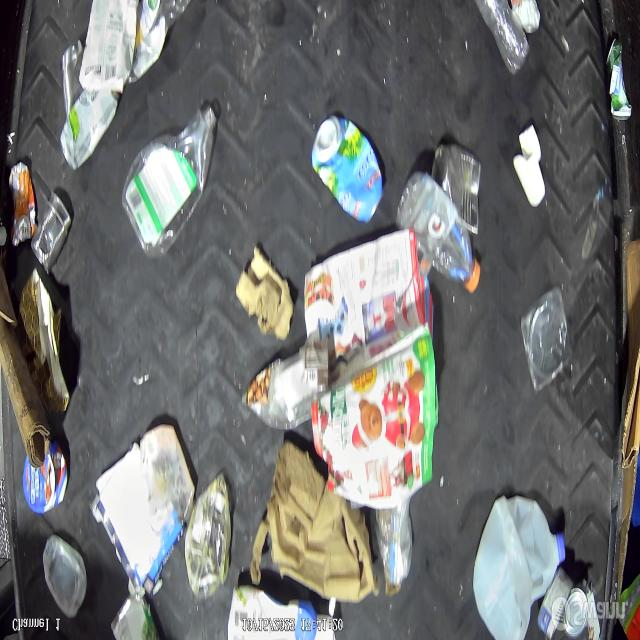can: (312, 112, 388, 222), (535, 559, 597, 640), (434, 136, 484, 234), (31, 188, 74, 276), (8, 151, 36, 247)
milk_jug: (468, 483, 566, 640)
plastic_bottle: (401, 168, 482, 292), (475, 0, 531, 76)
